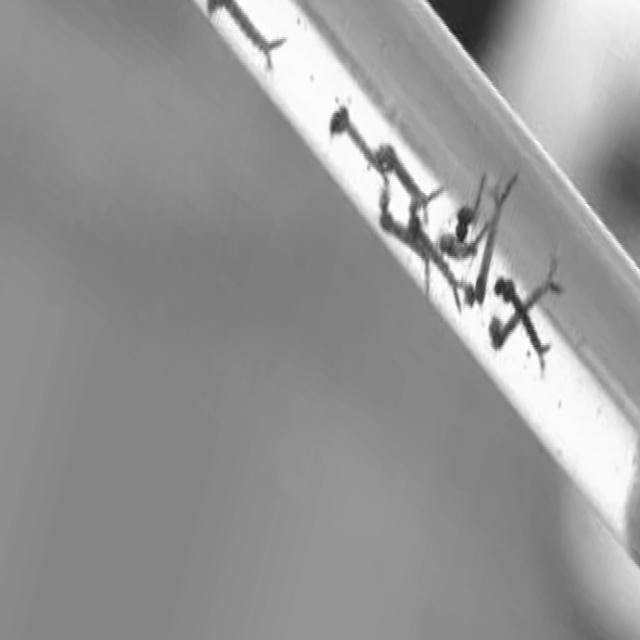larvas: (407, 208, 470, 310), (487, 267, 557, 356), (493, 267, 550, 366), (205, 1, 281, 70), (473, 179, 509, 306), (382, 148, 435, 209), (330, 108, 381, 169), (380, 209, 428, 267), (451, 177, 486, 239), (439, 239, 479, 257)
